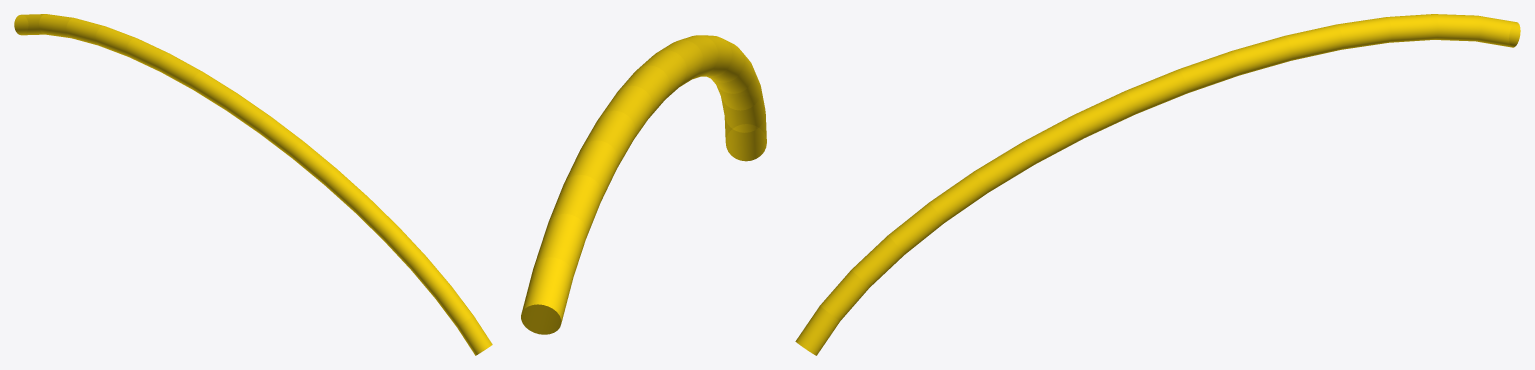
Rendered from Event_420094457_track_38.fbx.
3 views of the same model, side by side, from view 1: azimuth 30°, elevation 25°; view 2: azimuth 150°, elevation 25°; view 3: azimuth 270°, elevation 25° (orthographic). The views are drawn at different scales.
Parts seen in each view (by area): view 1: Model; view 2: Model; view 3: Model.
Boxes of the visible parts, left/top/right/bottom form: Model: left=14, top=14, right=492, bottom=355; Model: left=521, top=35, right=766, bottom=334; Model: left=795, top=14, right=1520, bottom=355.
Size of the model in its own units: 0.4408 by 0.4198 by 1.12.
